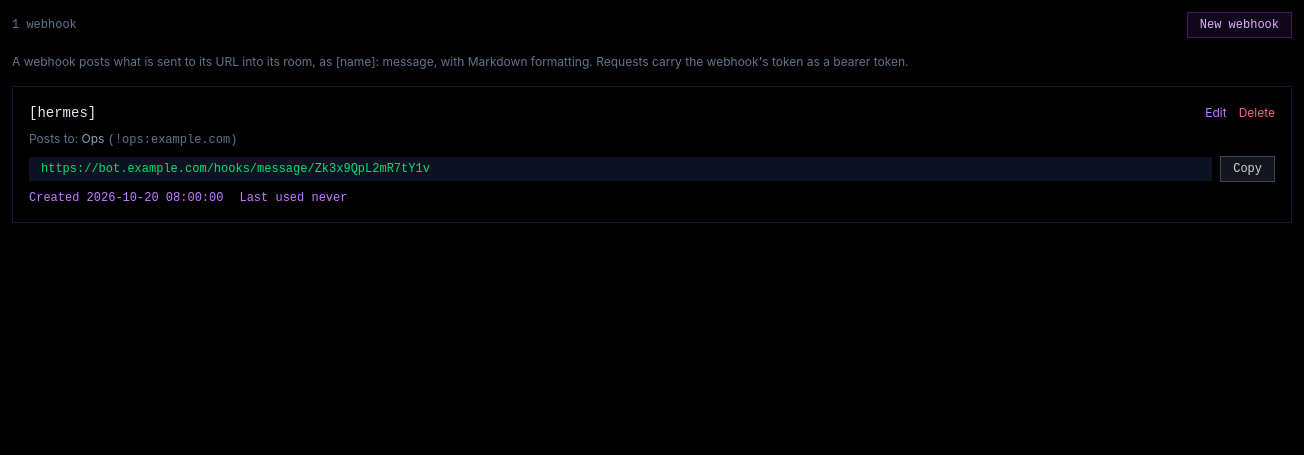
Scenario: WebhooksCard › editing › should fill the form in with the current name and room, and leave the token empty
The width and height of the screenshot is (1304, 455).
Step 1. Click the button "Edit" → (1216, 113), box [1205,105,1227,121]
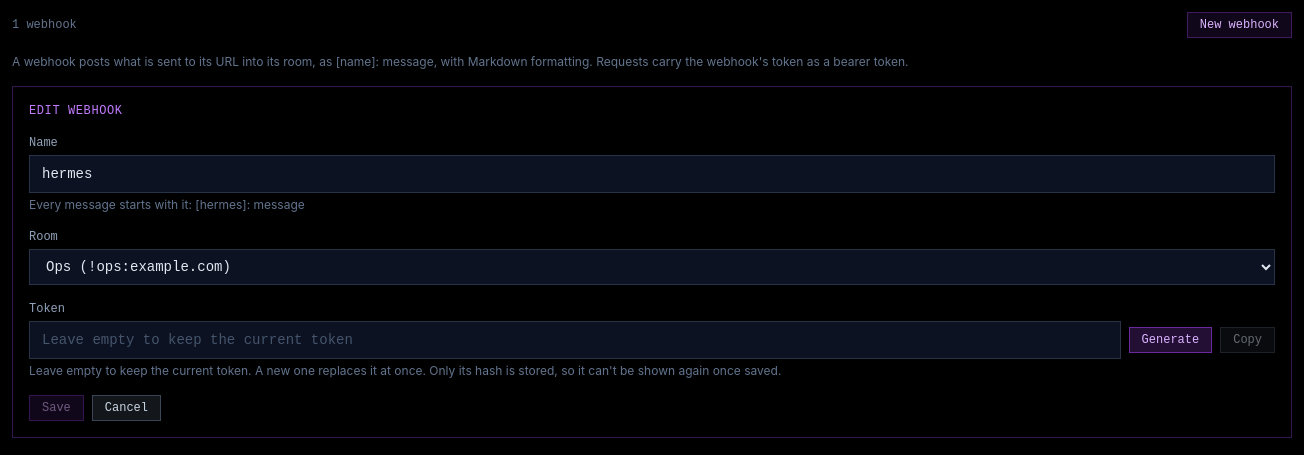
Now the field labelled "Name" holds "hermes", box [29,155,1275,193]
Now the dropdown labelled "Room" shows "Ops (!ops:example.com)", box [29,249,1275,285]
Now the field labelled "Token" is empty, box [29,321,1121,359]
